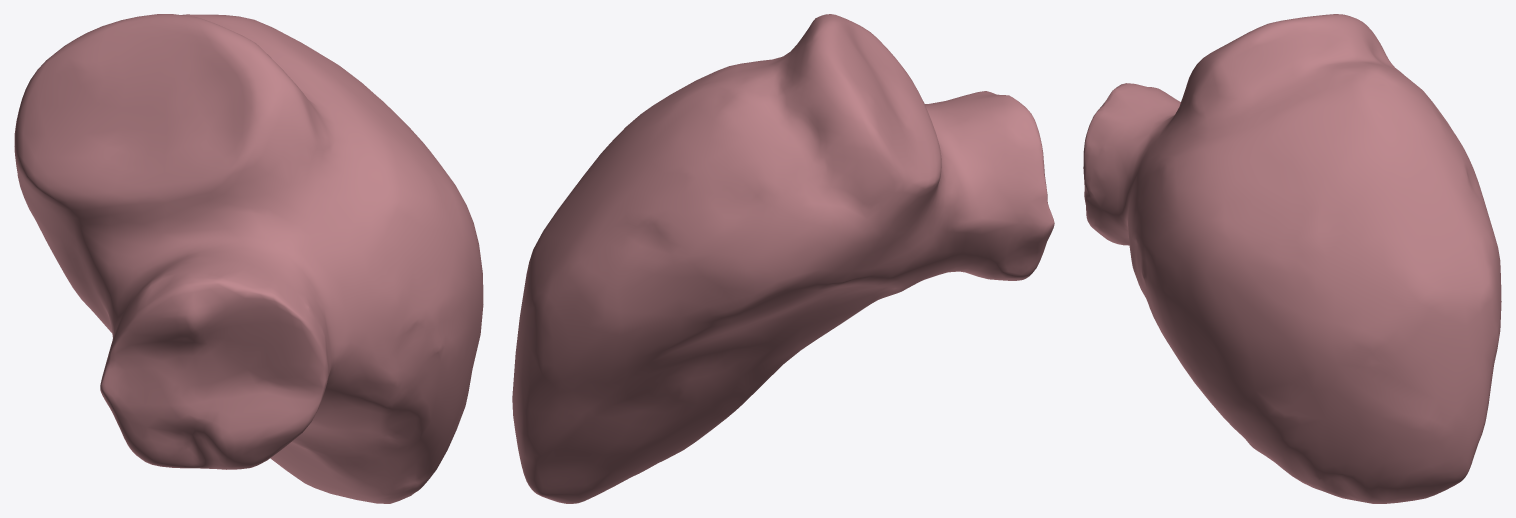
The picture shows the model from 3 angles, left to right: view 1: azimuth 30°, elevation 25°; view 2: azimuth 150°, elevation 25°; view 3: azimuth 270°, elevation 25°; orthographic projection. The views are drawn at different scales.
Parts seen in each view (by area): view 1: structure; view 2: structure; view 3: structure.
Boxes of the visible parts, x1=… form: structure: x1=14, y1=14, x2=483, y2=503; structure: x1=512, y1=14, x2=1054, y2=503; structure: x1=1083, y1=14, x2=1501, y2=503.
Bounding box in the file's own units: 63.56 × 72.12 × 67.41.
